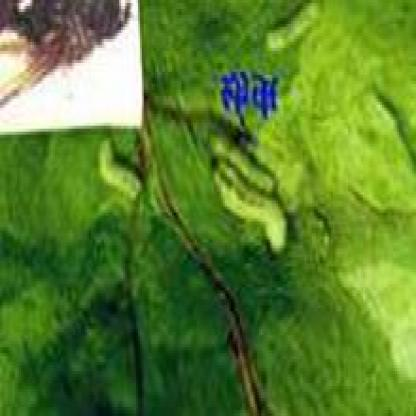whorl-maggot: (206, 121, 292, 258), (93, 131, 141, 218), (263, 0, 322, 64)
